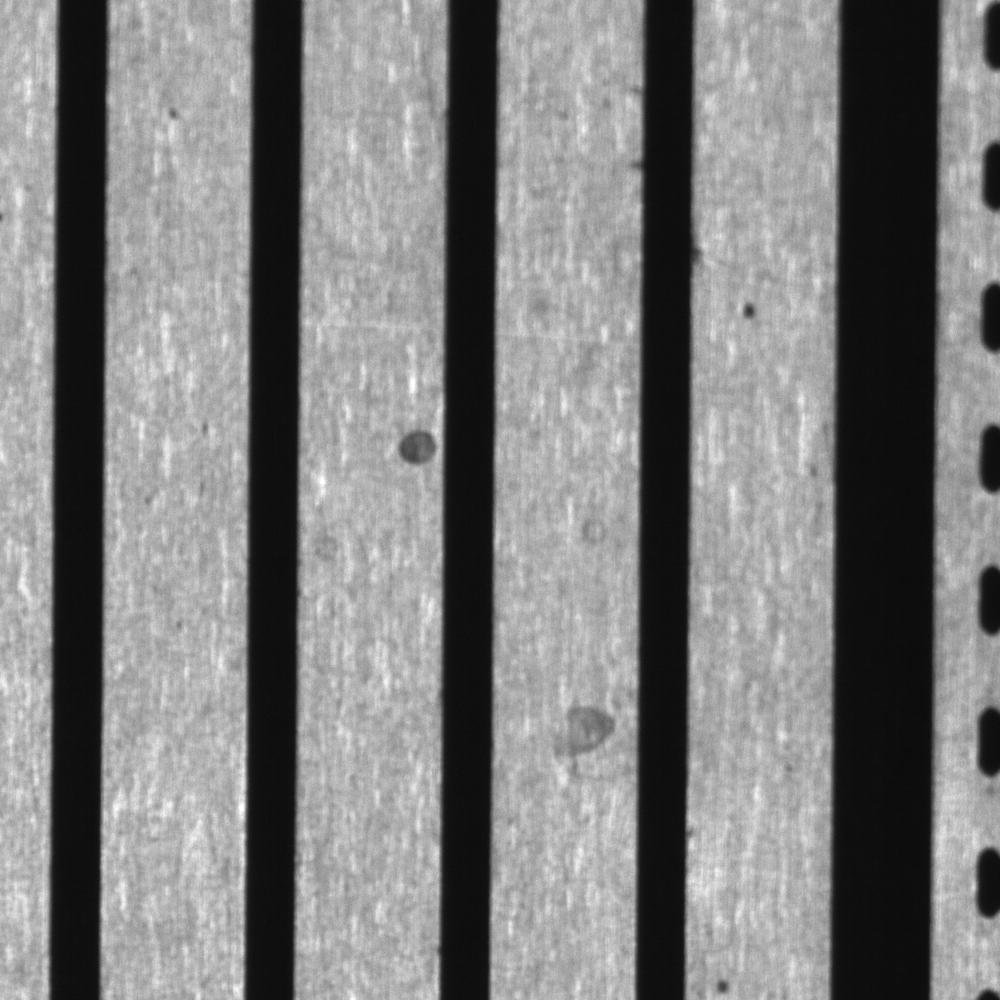Discolor: (543, 690, 635, 787), (795, 414, 834, 487), (390, 420, 442, 471), (572, 503, 620, 550)
Etching: (608, 68, 651, 171), (691, 202, 718, 283)
Pinhole: (732, 290, 767, 327), (706, 964, 739, 1000), (160, 99, 189, 126)
